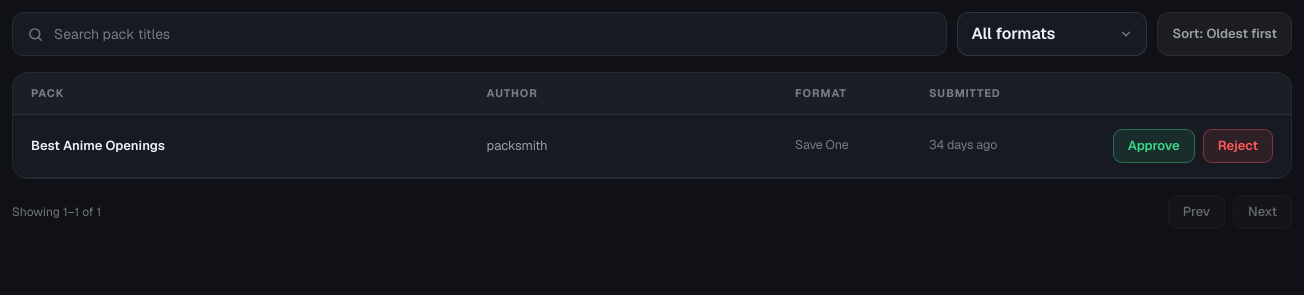
Test: PackApprovalsTab › approves a pack and refetches the queue without it
Expected: the link "Best Anime Openings" is shown, 31,137 -> 165,154
Click the button "Approve" at (1154, 146), box 1113,128 -> 1195,162
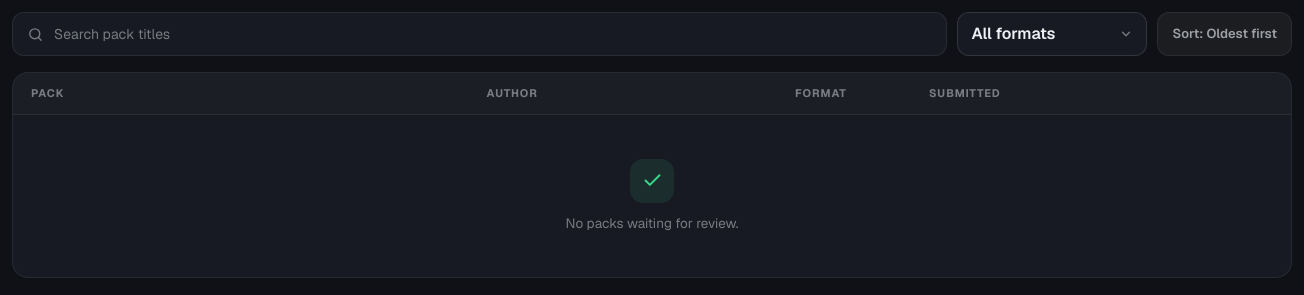
Now the text "No packs waiting for review." is shown, box 566,158 -> 738,232
